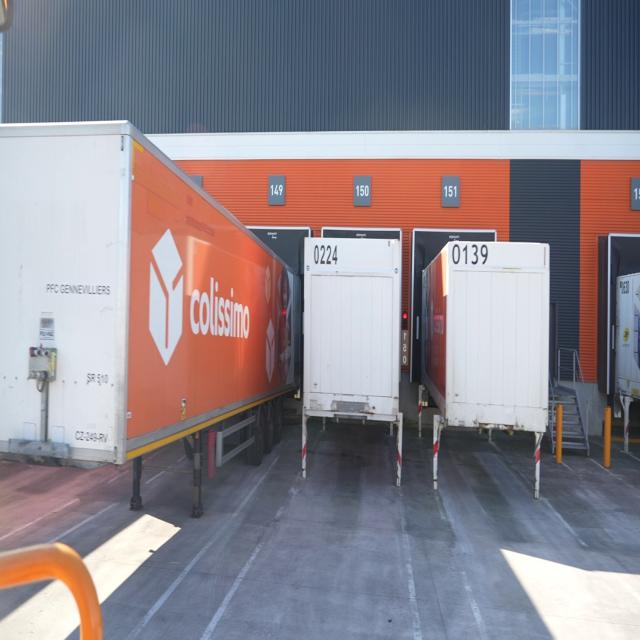Code: (448, 241, 491, 271), (312, 239, 341, 270)
